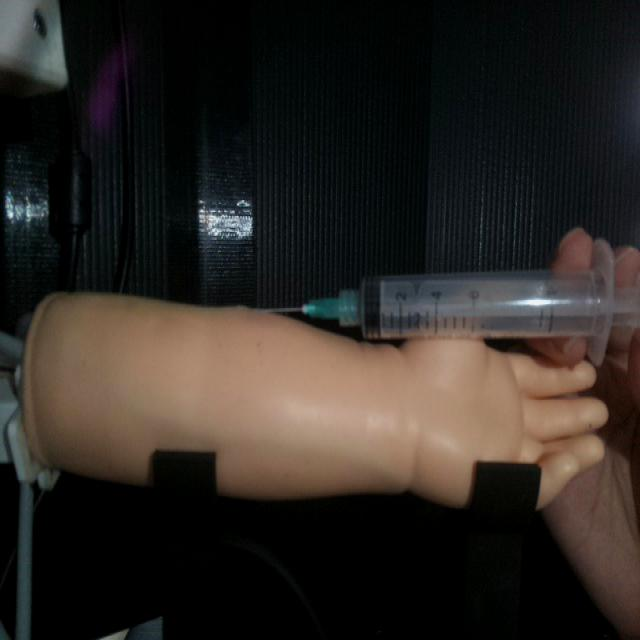Below 15 degrees: (262, 260, 638, 347)
